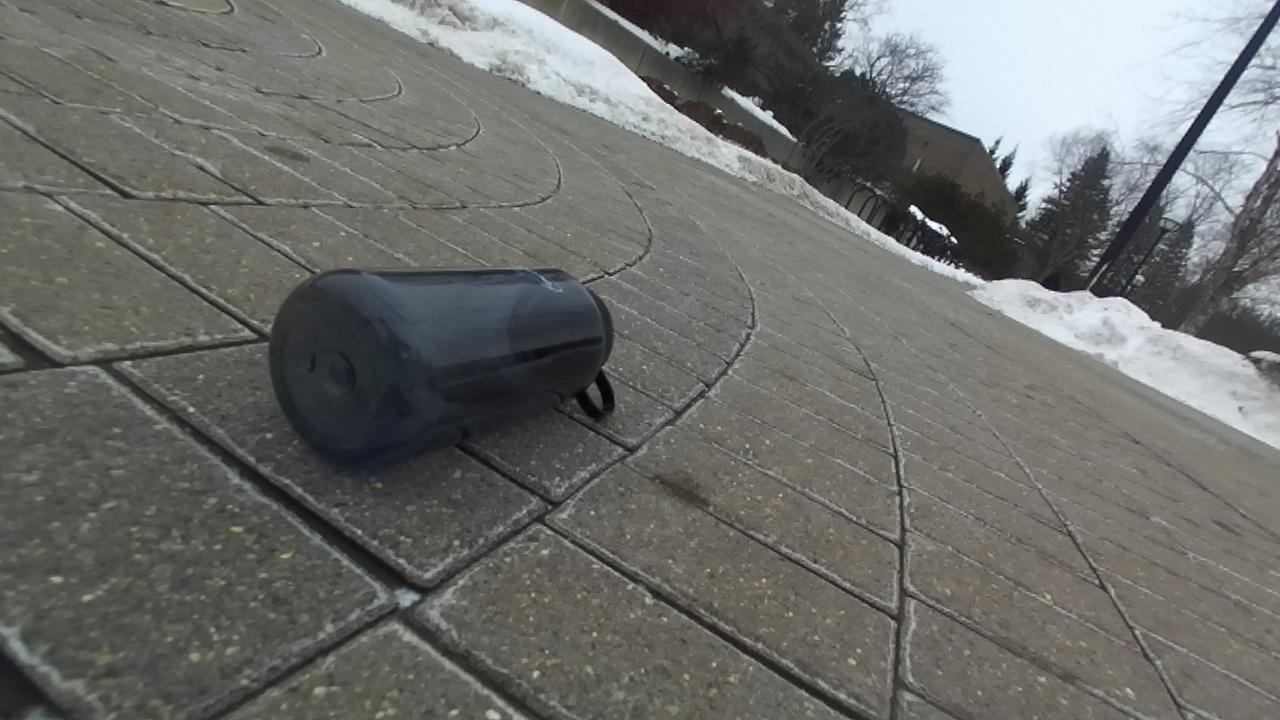bottle: (270, 269, 613, 463)
